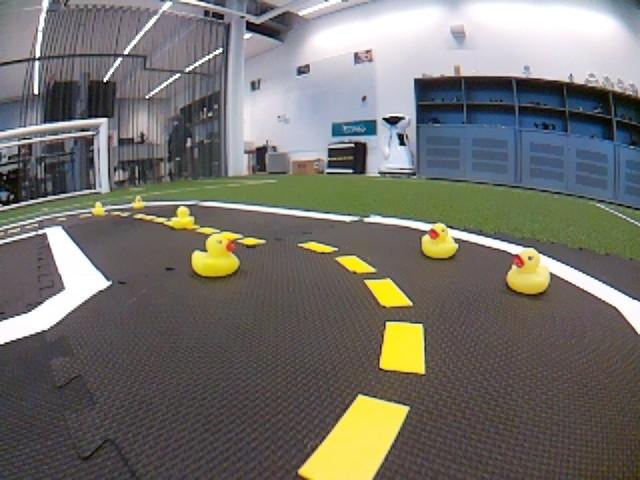Duckies: (506, 246, 550, 296), (191, 234, 241, 277), (419, 222, 459, 258), (168, 205, 196, 229), (92, 201, 107, 216), (132, 195, 146, 209)
